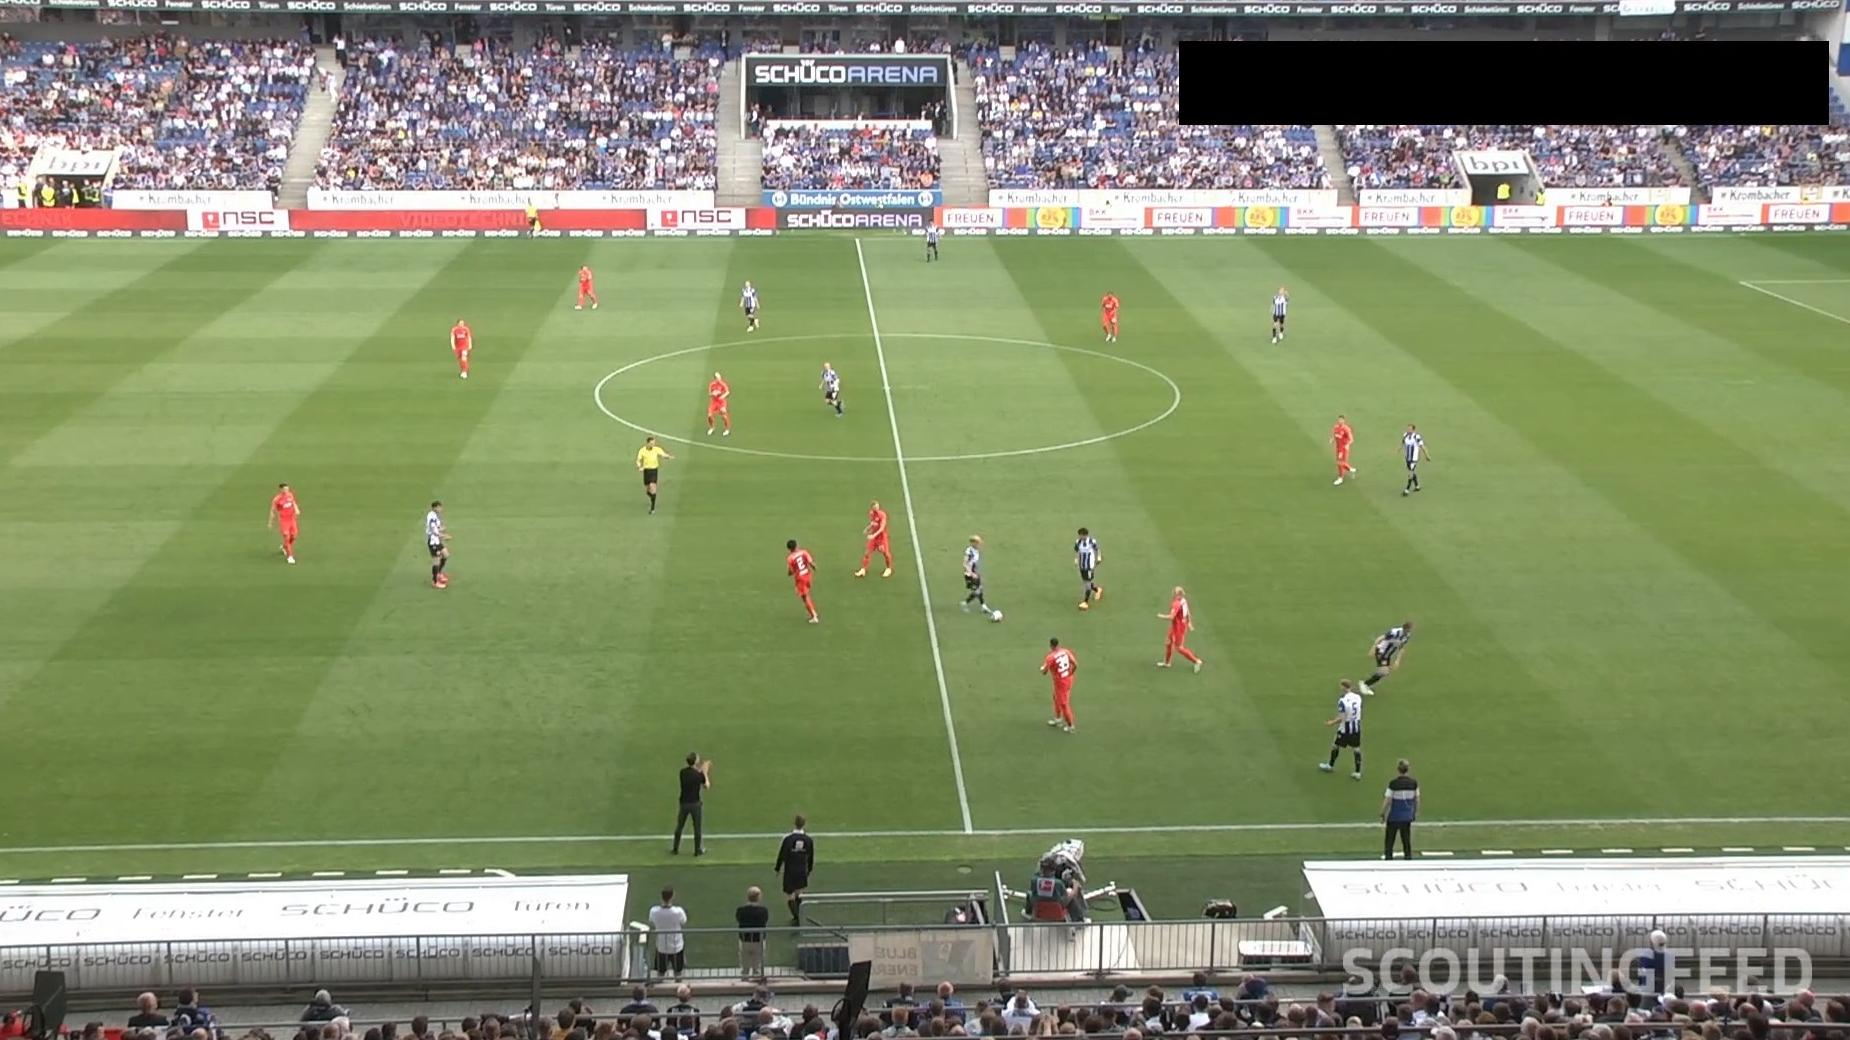ball: (990, 608, 1005, 623)
